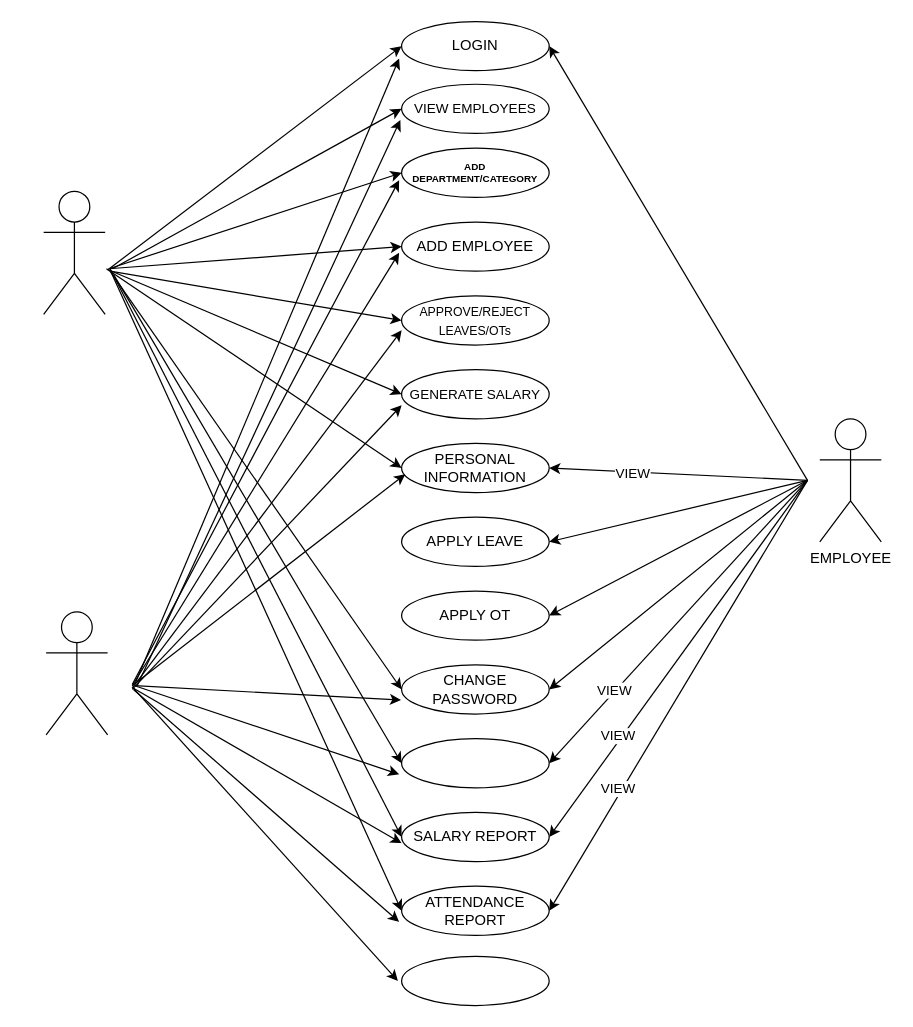
This 913x1027 diagram has some shape labels left out. The shapes that lost their labels are listed below. From the top down, each one's centre as x and y in pixels, then its label:
the point at 73,252: ADMIN
the point at 76,673: MASTER ADMIN
the point at 474,762: LEAVE REPORT
the point at 474,980: EDIT SALARY
